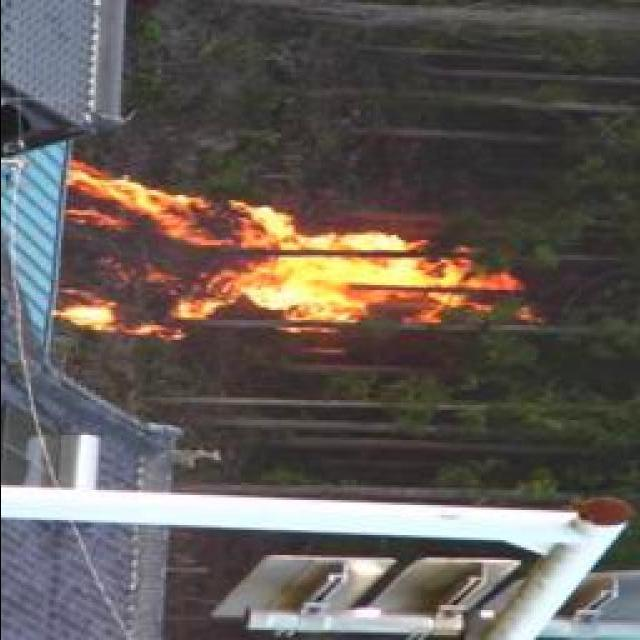Fire: (52, 156, 458, 342)
